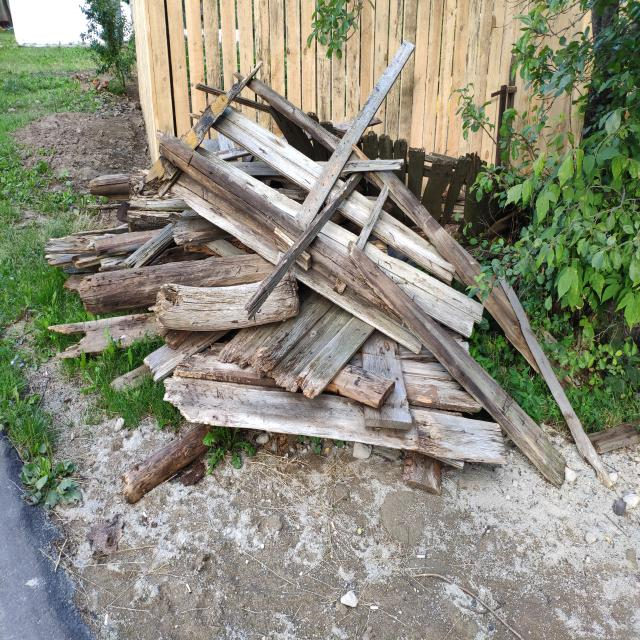entulho: (352, 254, 565, 489), (166, 370, 506, 462), (157, 126, 337, 288), (156, 287, 377, 402), (502, 277, 608, 488), (182, 130, 314, 285), (325, 230, 485, 336), (206, 79, 346, 192), (46, 230, 229, 316), (304, 69, 398, 215), (126, 414, 237, 504), (90, 167, 208, 231), (50, 321, 176, 352), (108, 358, 178, 398)
